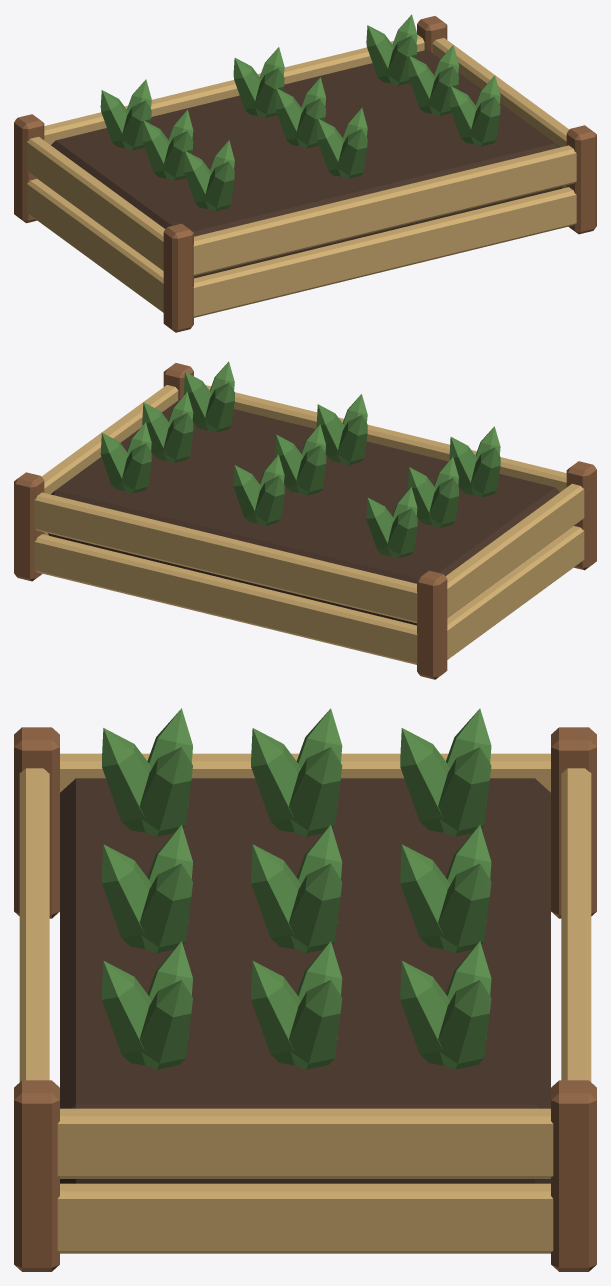
File: 01_Raised_Garden_Bed.glb
3 renders of one model, top to bottom at view 1: azimuth 30°, elevation 25°; view 2: azimuth 150°, elevation 25°; view 3: azimuth 270°, elevation 25°, orthographic. The views are drawn at different scales.
Visible parts, largest first — view 1: 01_Raised_Garden_Bed__Body; view 2: 01_Raised_Garden_Bed__Body; view 3: 01_Raised_Garden_Bed__Body.
Part boxes in pixels (x1,y1,x2,y2): 01_Raised_Garden_Bed__Body: [14, 14, 596, 332]; 01_Raised_Garden_Bed__Body: [14, 361, 596, 679]; 01_Raised_Garden_Bed__Body: [14, 708, 596, 1271].
Size of the model in its own units: 3.84 by 1.18 by 2.54.
Materials: 1 (1 with a texture image).
